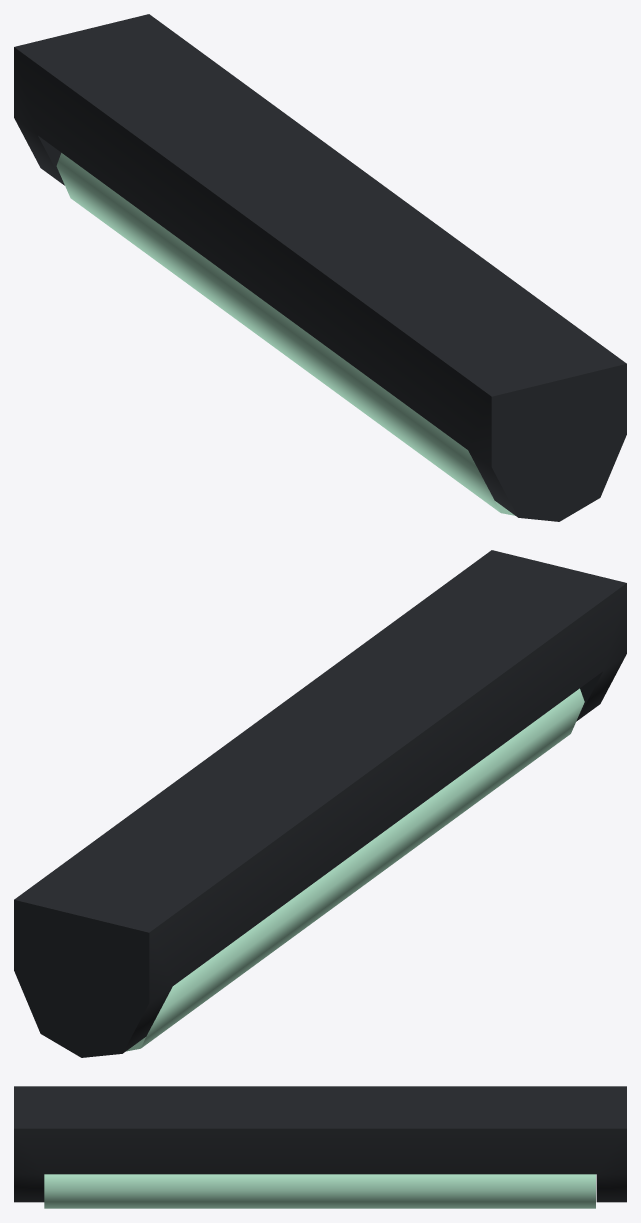
File: lamp01.FBX
The picture shows the model from 3 angles, top to bottom: view 1: azimuth 30°, elevation 25°; view 2: azimuth 150°, elevation 25°; view 3: azimuth 270°, elevation 25°; orthographic projection. The views are drawn at different scales.
Parts seen in each view (by area): view 1: Lamp01; view 2: Lamp01; view 3: Lamp01.
Boxes of the visible parts, x1=… form: Lamp01: x1=14, y1=14, x2=626, y2=521; Lamp01: x1=14, y1=550, x2=626, y2=1057; Lamp01: x1=14, y1=1086, x2=626, y2=1208.
Size of the model in its own units: 9.47 by 10.46 by 57.96.
